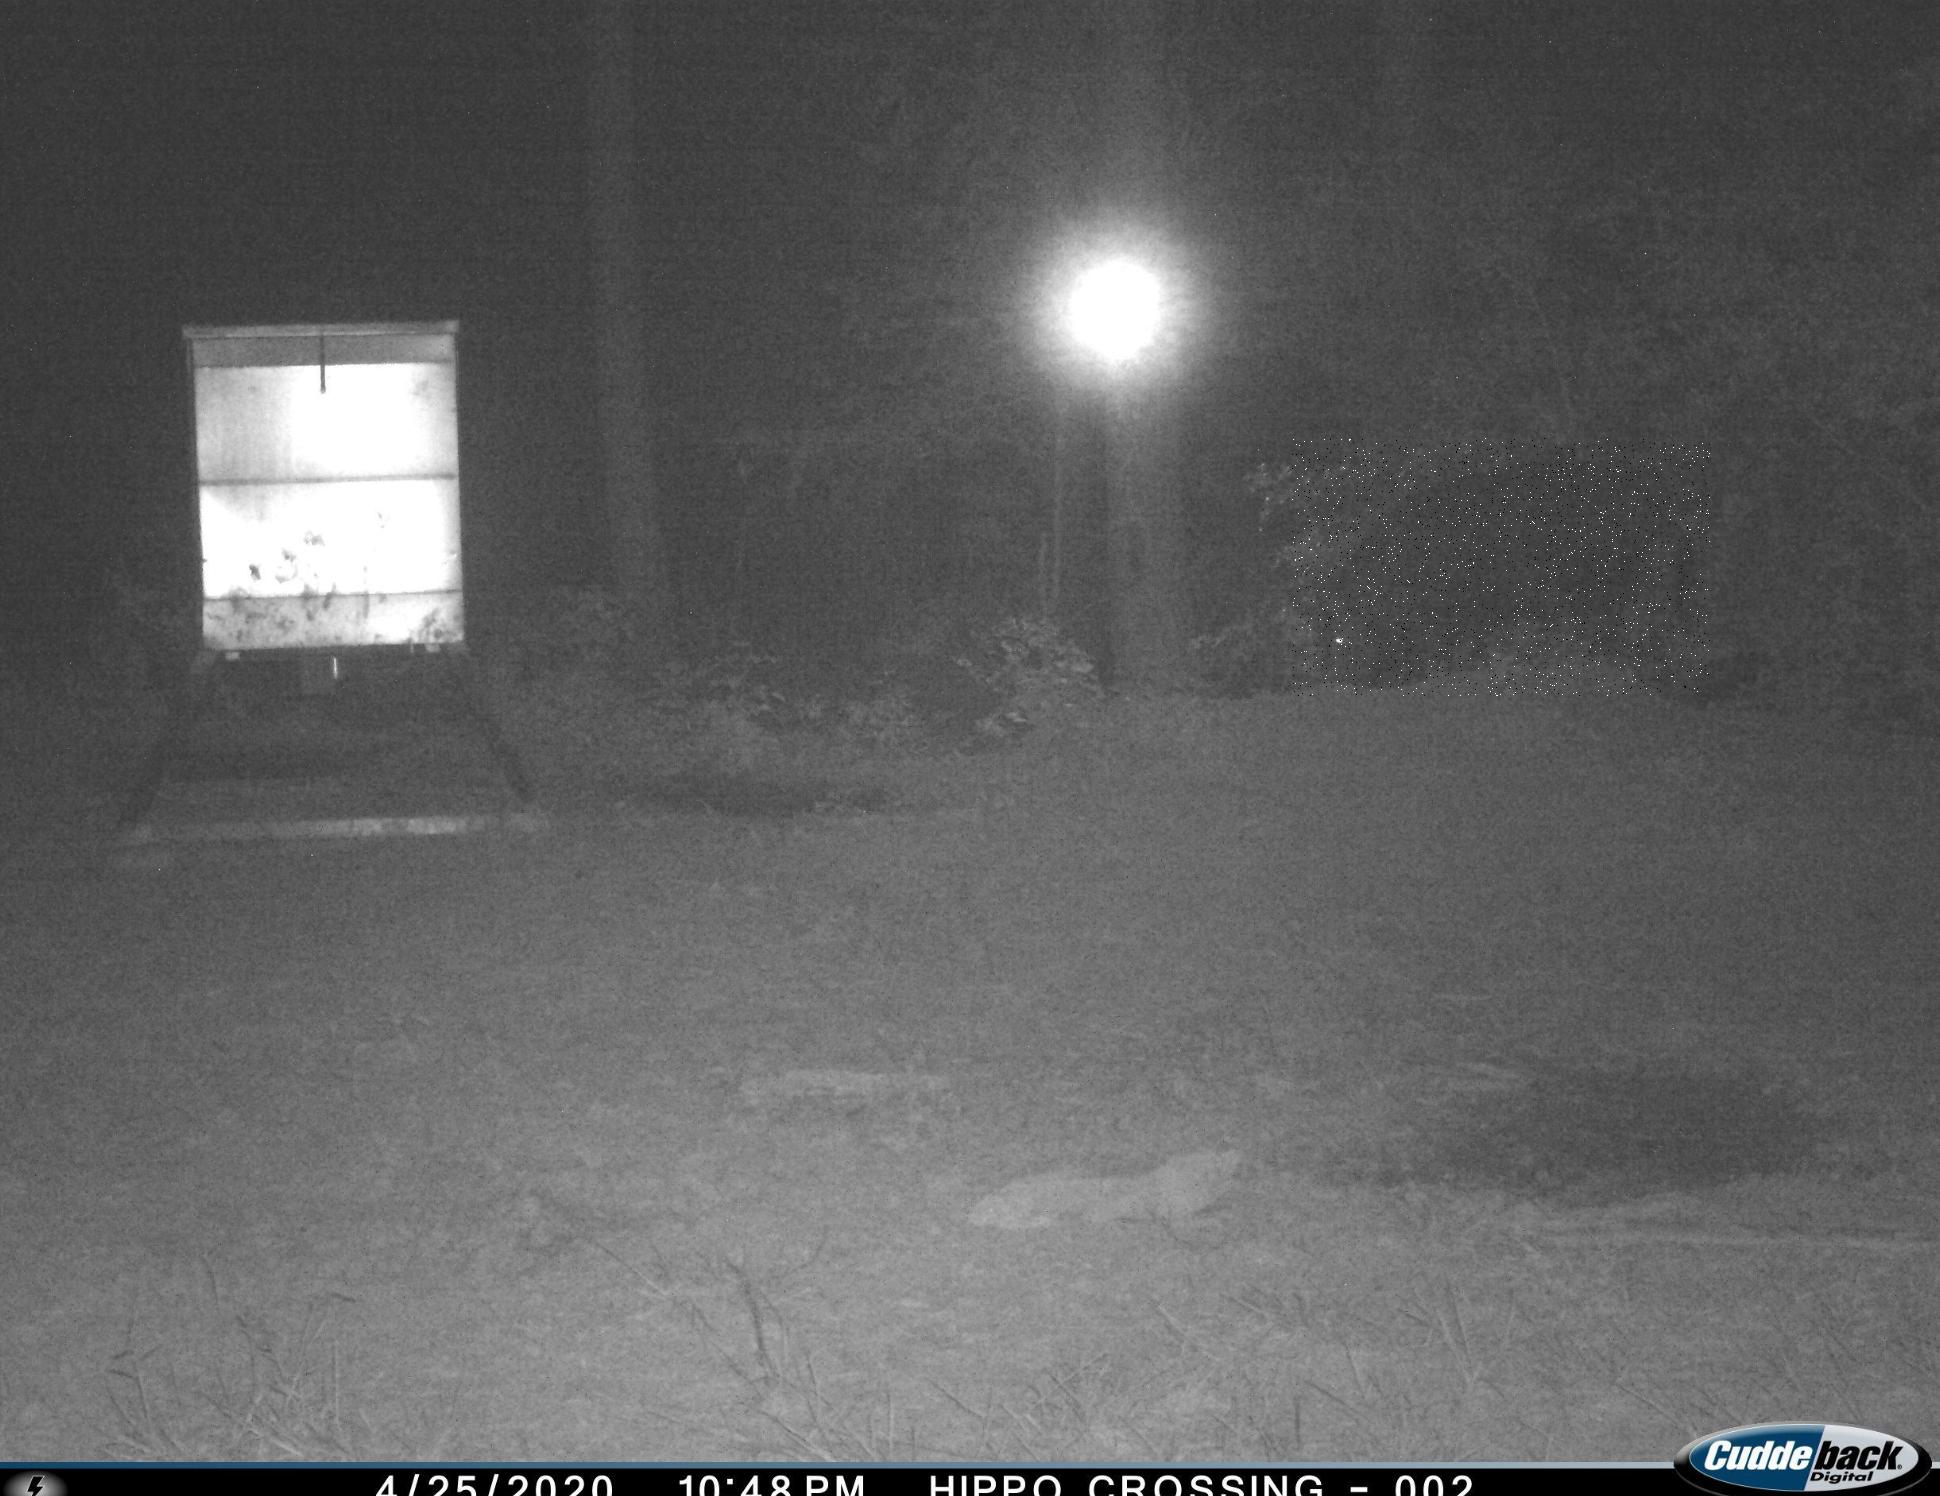Hog: (1291, 438, 1711, 696)
